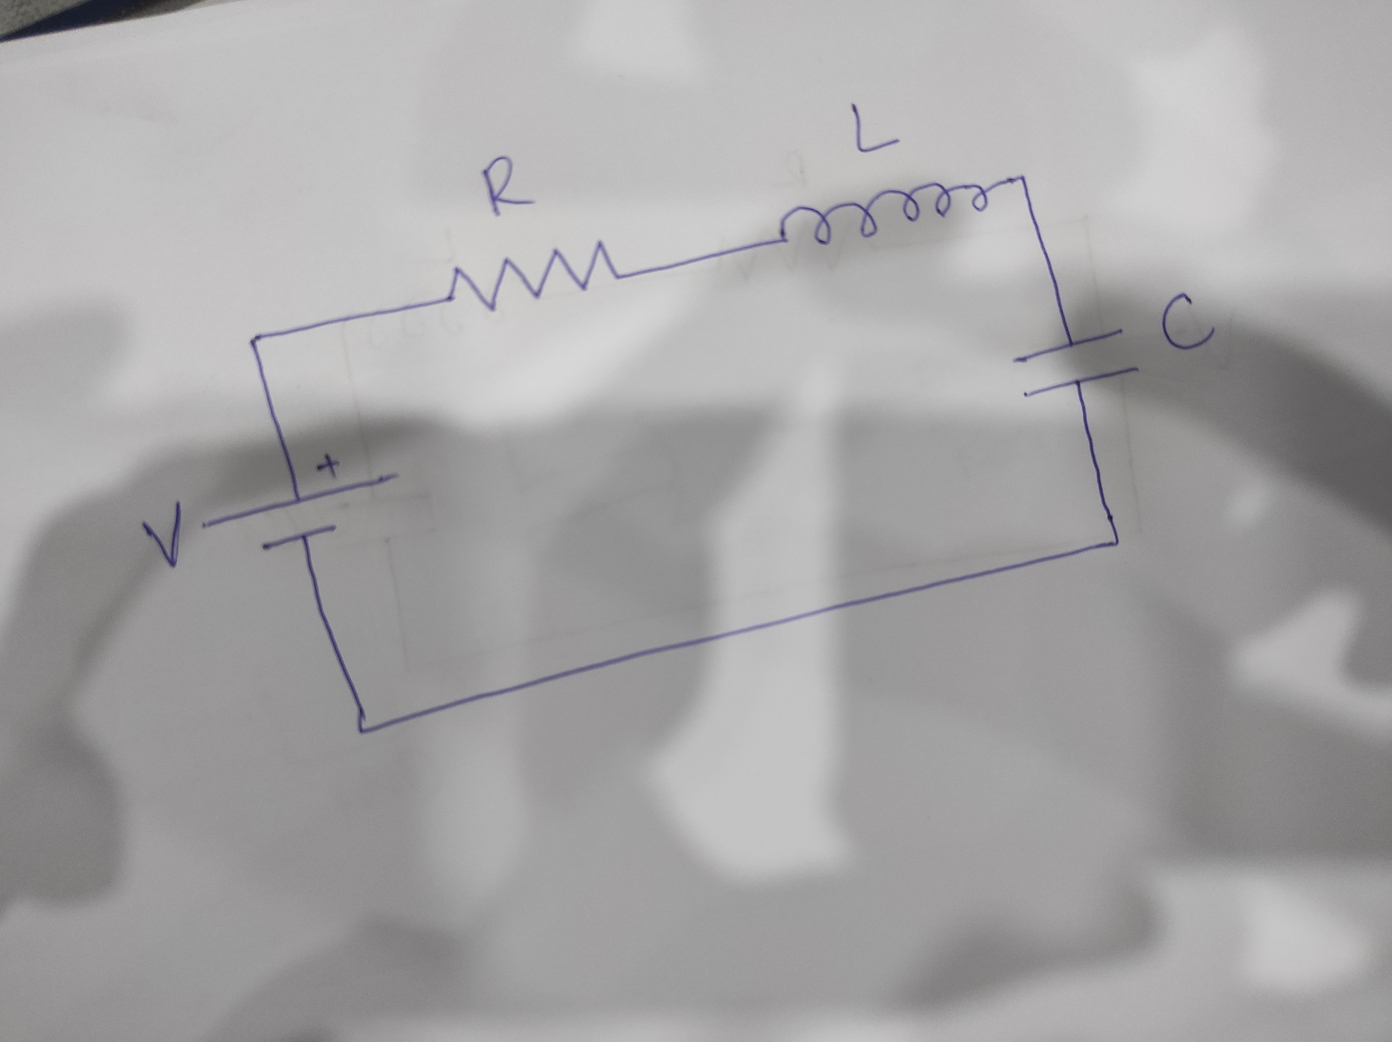capacitor.unpolarized: (1007, 324, 1142, 402)
inductor: (775, 175, 1002, 248)
junction: (346, 709, 379, 745), (1099, 525, 1129, 558), (1012, 167, 1035, 192), (244, 329, 268, 350)
resistor: (429, 236, 634, 313)
text: (847, 99, 914, 157), (477, 150, 536, 215), (139, 497, 187, 572), (1160, 291, 1218, 354)
voltage.dc: (196, 449, 403, 556)
